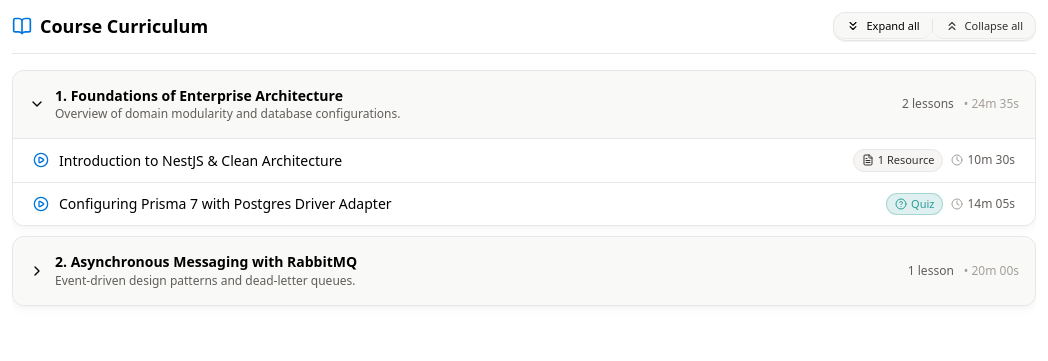
CurriculumOutline Component › allows expanding and collapsing chapter items
The image size is (1048, 361).
Click the text "2. Asynchronous Messaging with RabbitMQ". click: coordinates (206, 262)
box: [55,253,357,271]
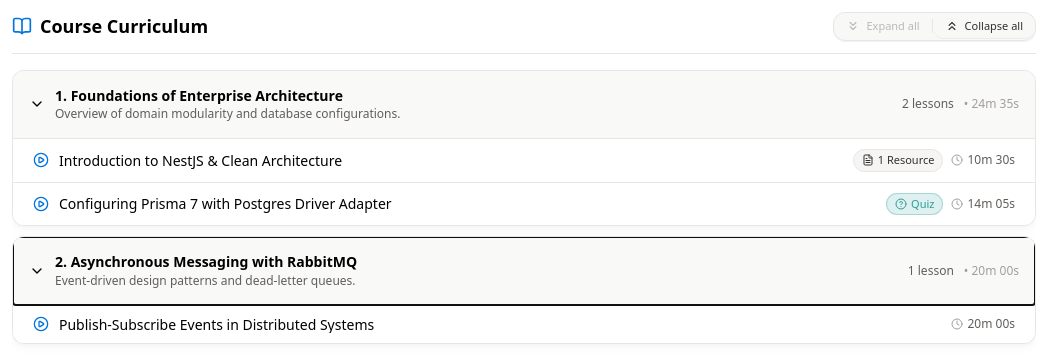
Check: the text "Publish-Subscribe Events in Distributed Systems" is shown, box [59,316,374,333]
